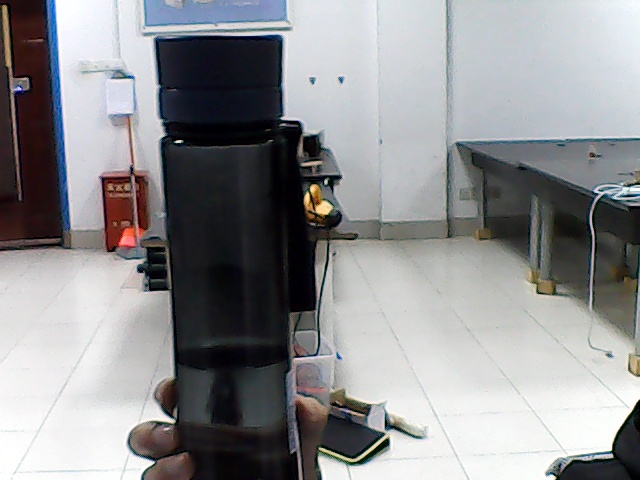cup: (172, 38, 282, 436)
